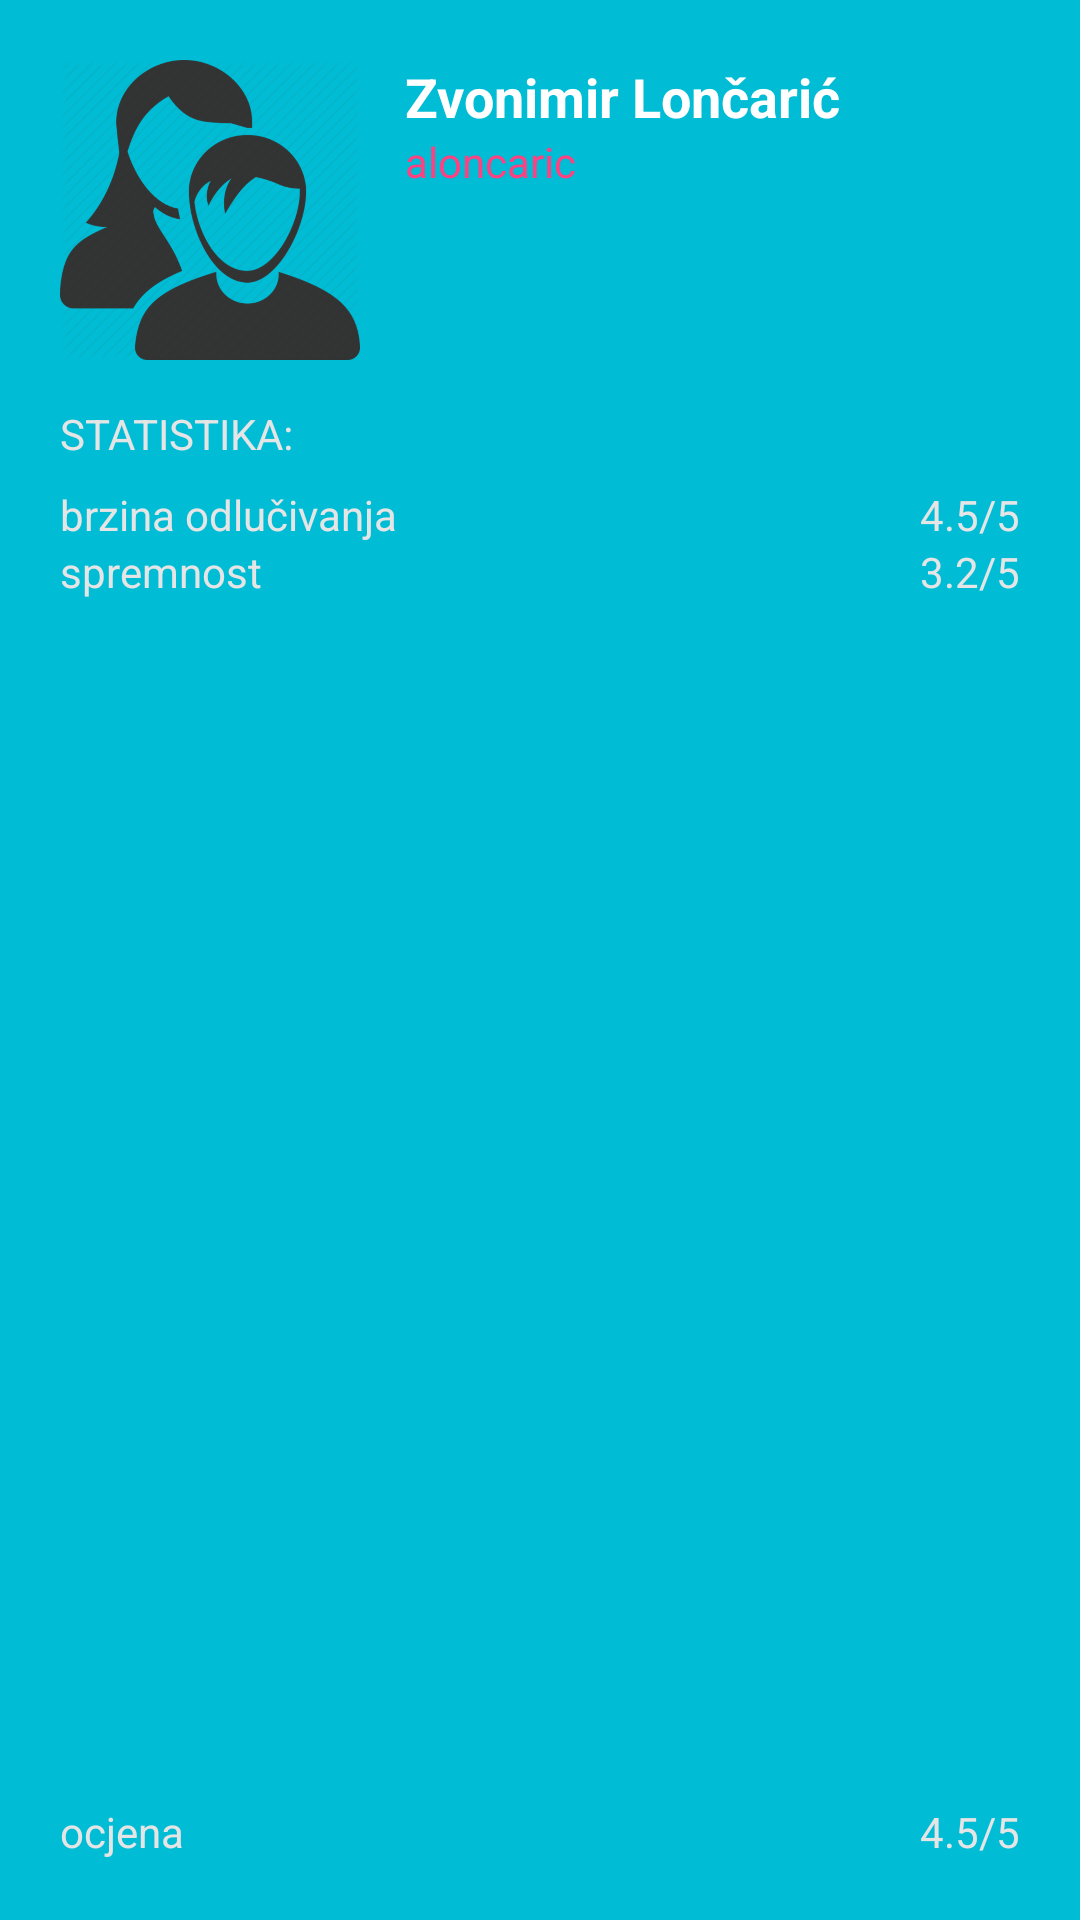

Locate icon controls on the screen. Image size 1080*1920, boxes as [x1,y1,x2,y2].
profile: [60,60,360,360]
